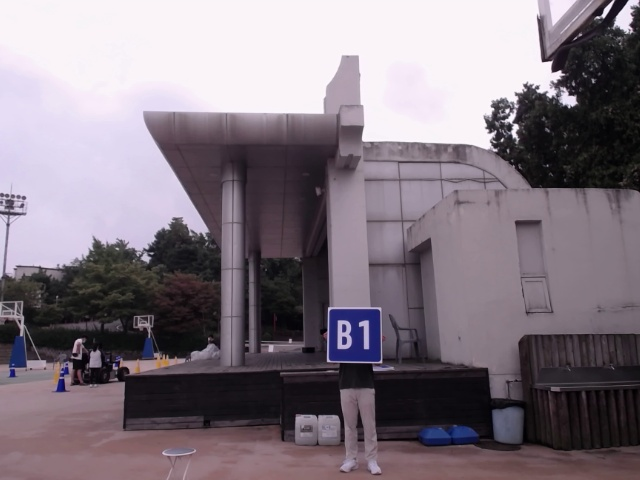delivery_b1: (327, 307, 382, 363)
